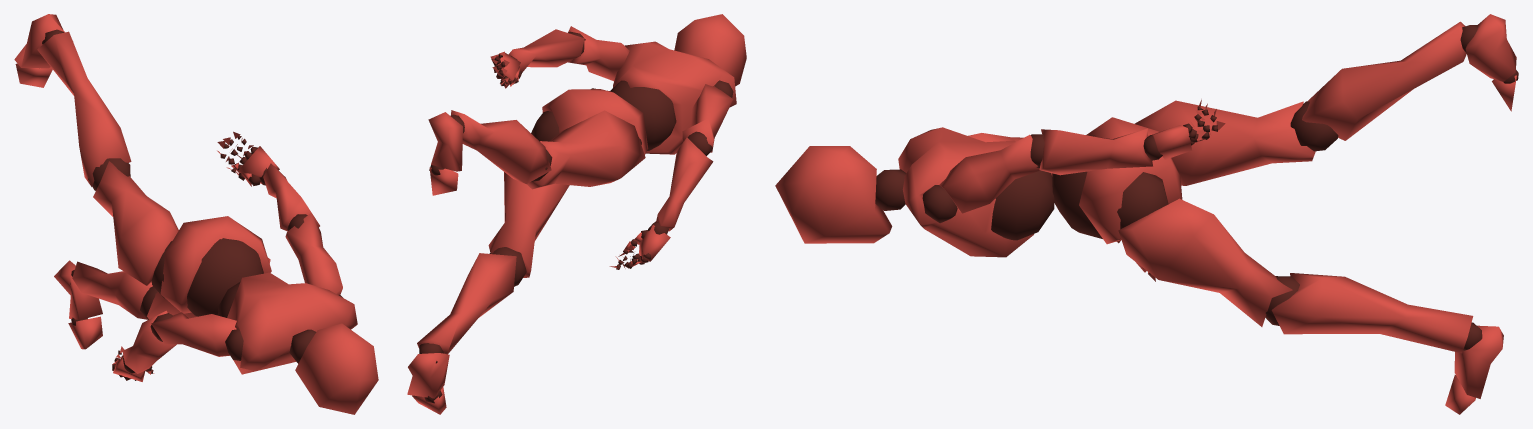
3 renders of one model, left to right at view 1: azimuth 30°, elevation 25°; view 2: azimuth 150°, elevation 25°; view 3: azimuth 270°, elevation 25°, orthographic. The views are drawn at different scales.
Visible parts, largest first — view 1: Beta_Surface, Beta_Joints; view 2: Beta_Surface, Beta_Joints; view 3: Beta_Surface, Beta_Joints.
Part boxes in pixels (x1,y1,x2,y2): Beta_Surface: (14, 14, 378, 414); Beta_Joints: (42, 29, 342, 380); Beta_Surface: (407, 14, 746, 414); Beta_Joints: (419, 31, 733, 403); Beta_Surface: (775, 14, 1516, 414); Beta_Joints: (875, 25, 1518, 350).
Bounding box in the file's own units: 0.5677 × 1 × 1.75.
